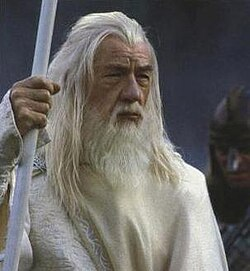gandalf gray: (8, 13, 211, 260)
